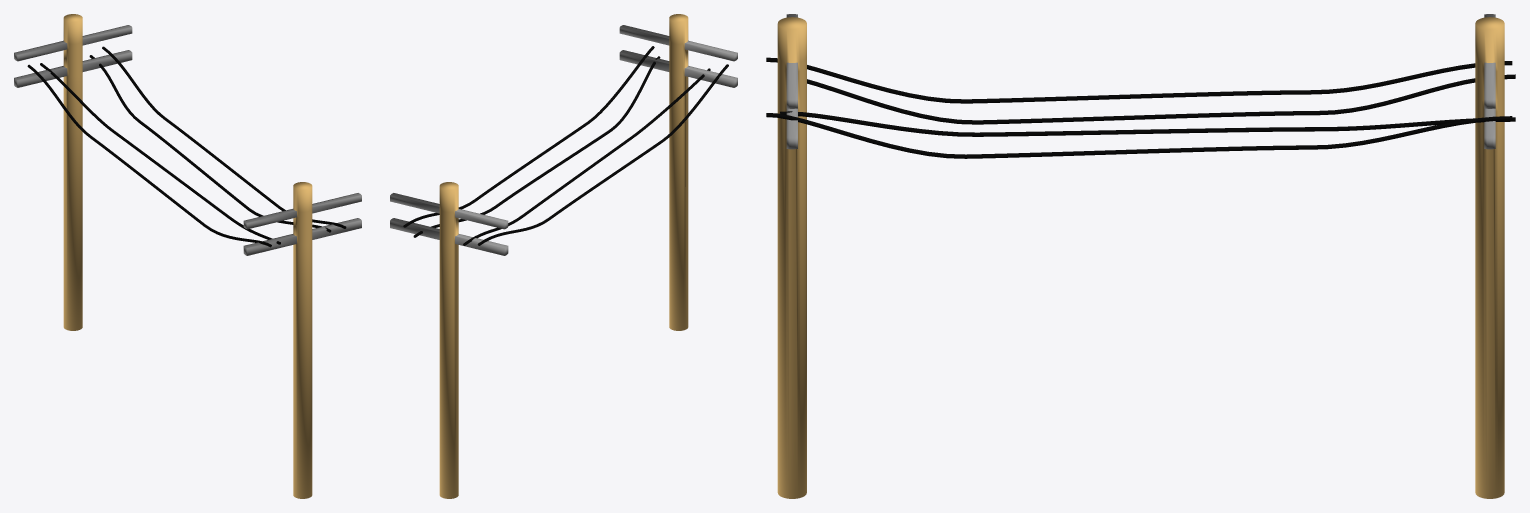
File: Wire_post_Long.fbx
The picture shows the model from 3 angles, left to right: view 1: azimuth 30°, elevation 25°; view 2: azimuth 150°, elevation 25°; view 3: azimuth 270°, elevation 25°; orthographic projection. The views are drawn at different scales.
Parts seen in each view (by area): view 1: BezierCurve.002; view 2: BezierCurve.002; view 3: BezierCurve.002.
Part boxes in pixels (x1=…): BezierCurve.002: x1=14, y1=14, x2=361, y2=498; BezierCurve.002: x1=390, y1=14, x2=737, y2=498; BezierCurve.002: x1=766, y1=14, x2=1515, y2=498.
Bounding box in the file's own units: 278 × 710 × 1027.
